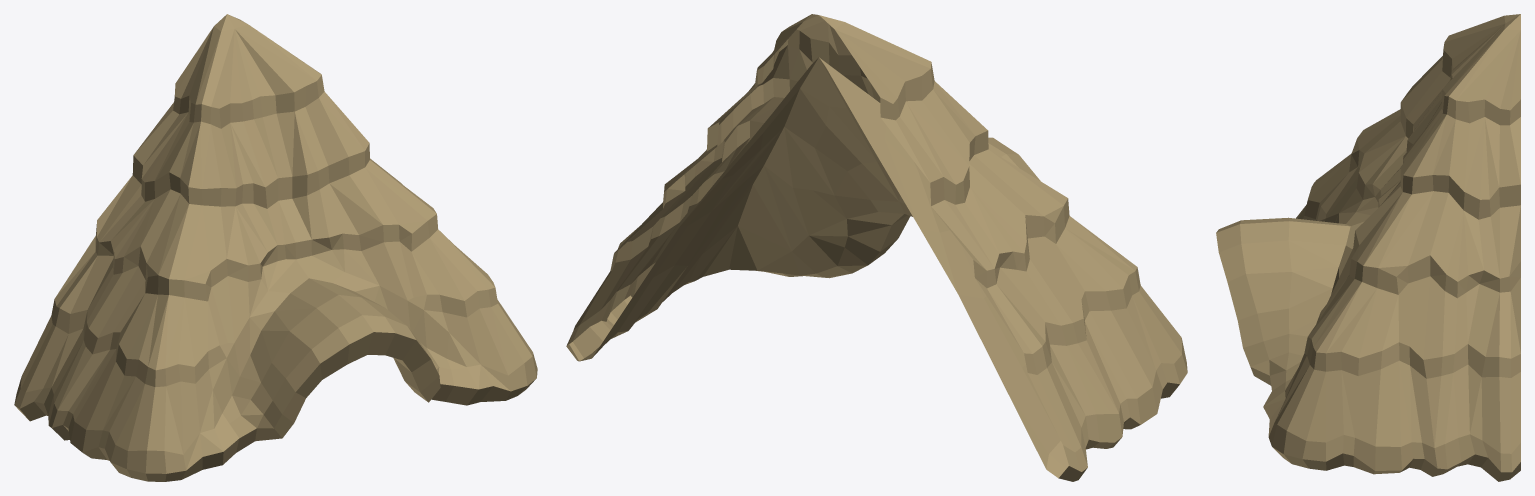
The model's file is rpgpp_ag_roof_02_6x5x3_end_04.fbx.
3 renders of one model, left to right at view 1: azimuth 30°, elevation 25°; view 2: azimuth 150°, elevation 25°; view 3: azimuth 270°, elevation 25°, orthographic. The views are drawn at different scales.
Parts seen in each view (by area): view 1: rpgpp_ag_roof_02_6x5x3_end_04; view 2: rpgpp_ag_roof_02_6x5x3_end_04; view 3: rpgpp_ag_roof_02_6x5x3_end_04.
Part boxes in pixels (x1,y1,x2,y2): rpgpp_ag_roof_02_6x5x3_end_04: (14,14,537,481); rpgpp_ag_roof_02_6x5x3_end_04: (566,14,1187,481); rpgpp_ag_roof_02_6x5x3_end_04: (1216,14,1520,481).
Bounding box in the file's own units: 8.02 × 6.16 × 4.7.
